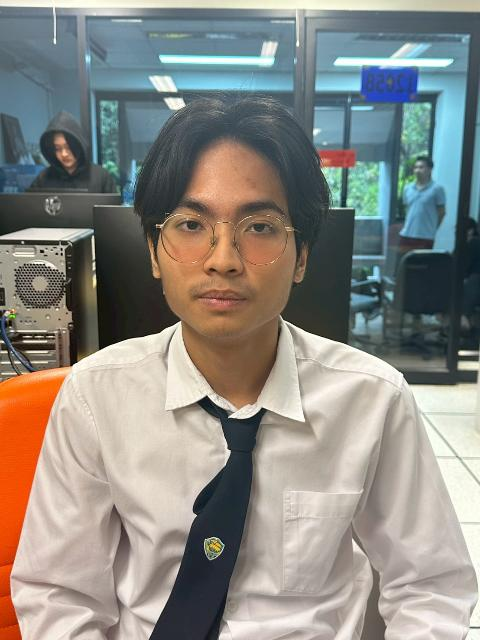fokus: (155, 133, 293, 341)
